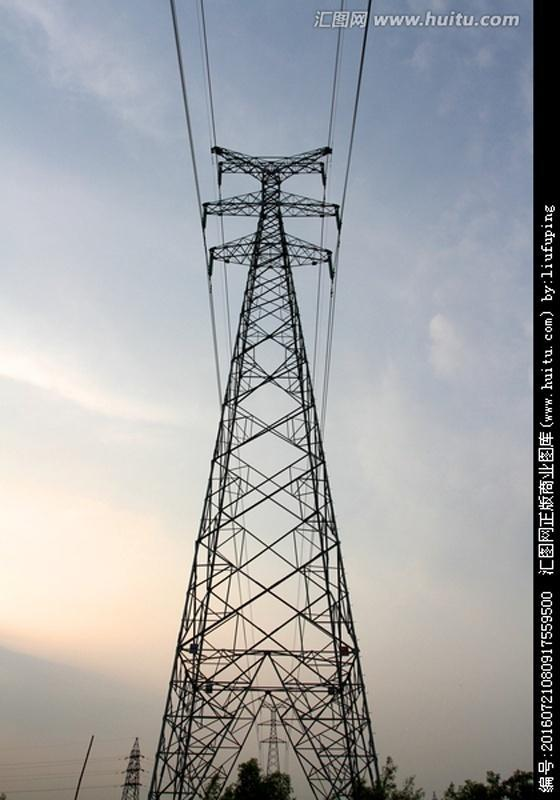power_tower: (147, 143, 384, 800), (255, 694, 291, 789), (118, 736, 142, 800)
